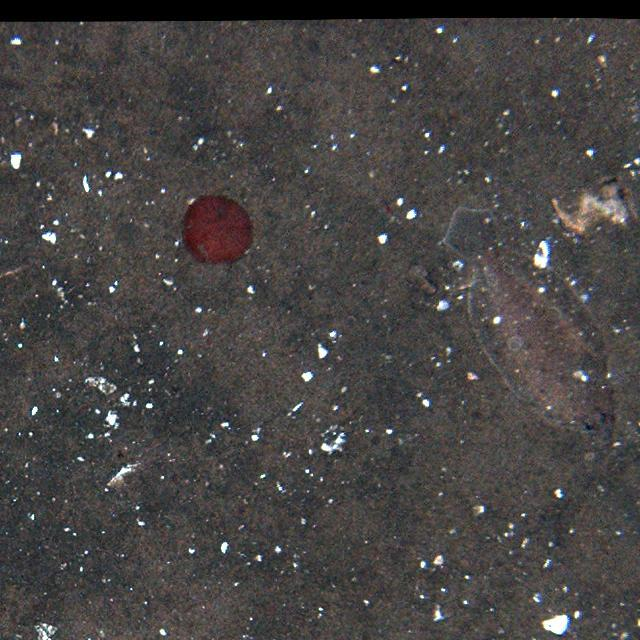flatfish: (437, 204, 622, 448)
